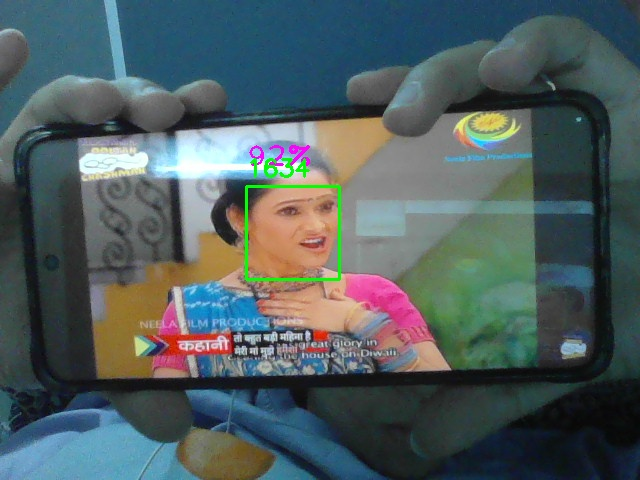fake: (246, 186, 340, 280)
